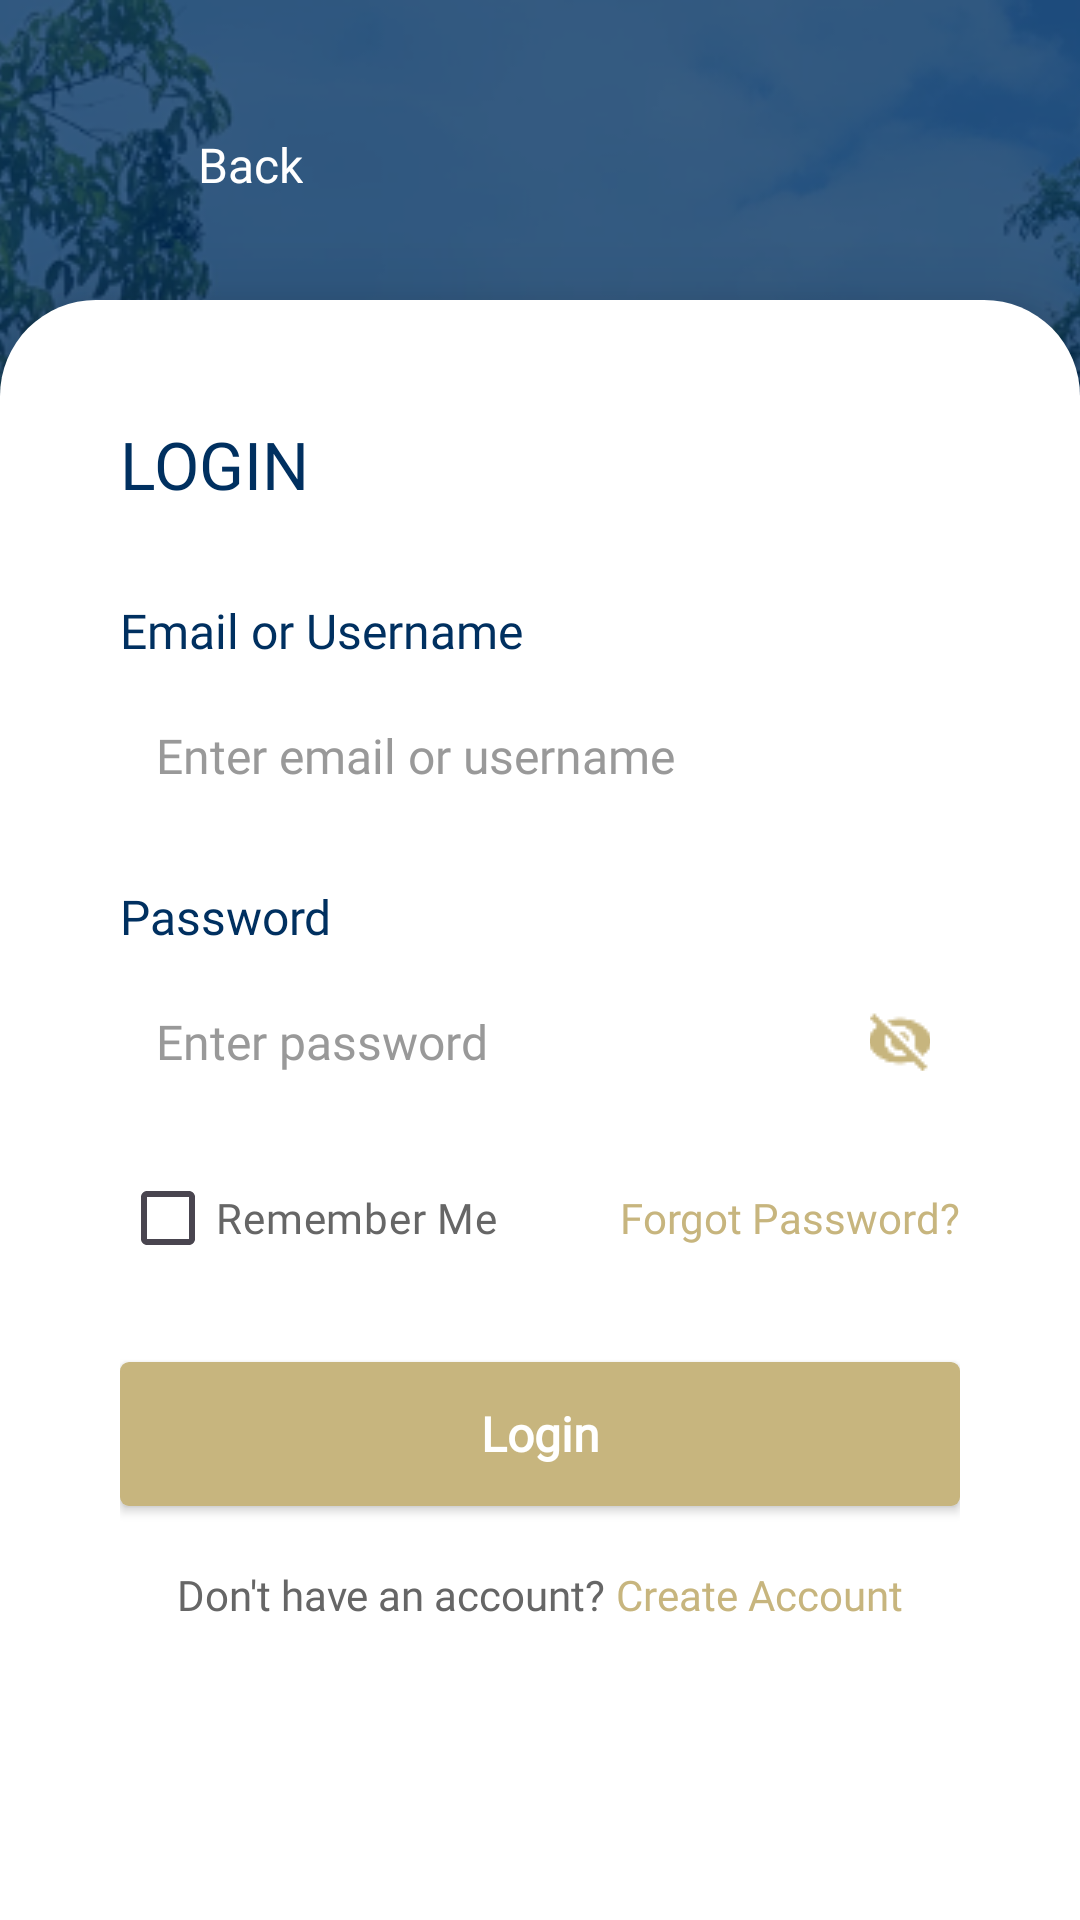

Icon bounding boxes for this 1080×1920 phone screenshot, format (x1, y1, x2, y2):
eye closed: (870, 1013, 930, 1071)
